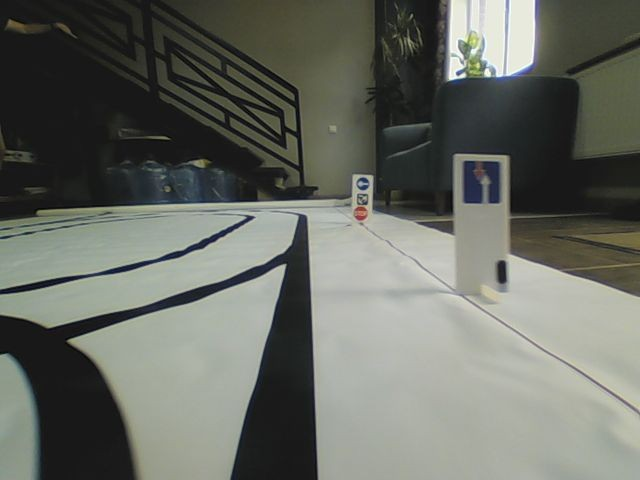Stop: (352, 205, 369, 221)
priority_movement: (462, 159, 501, 205)
